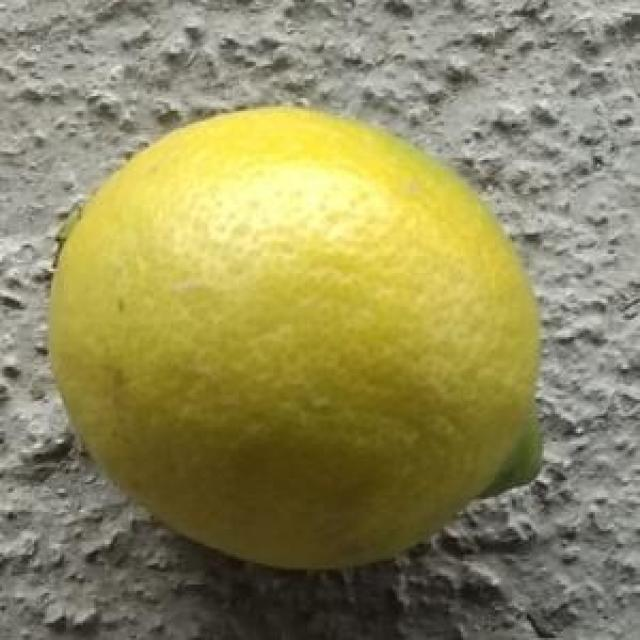lemon: (54, 100, 548, 576)
